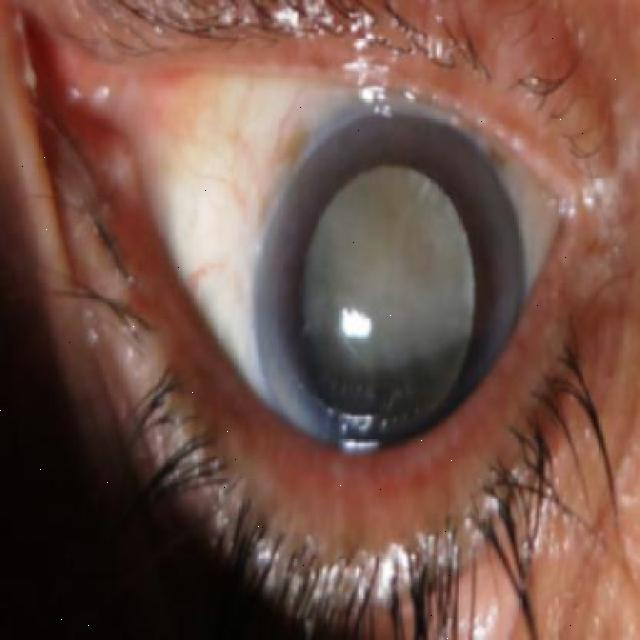Cataract: (257, 109, 532, 459)
